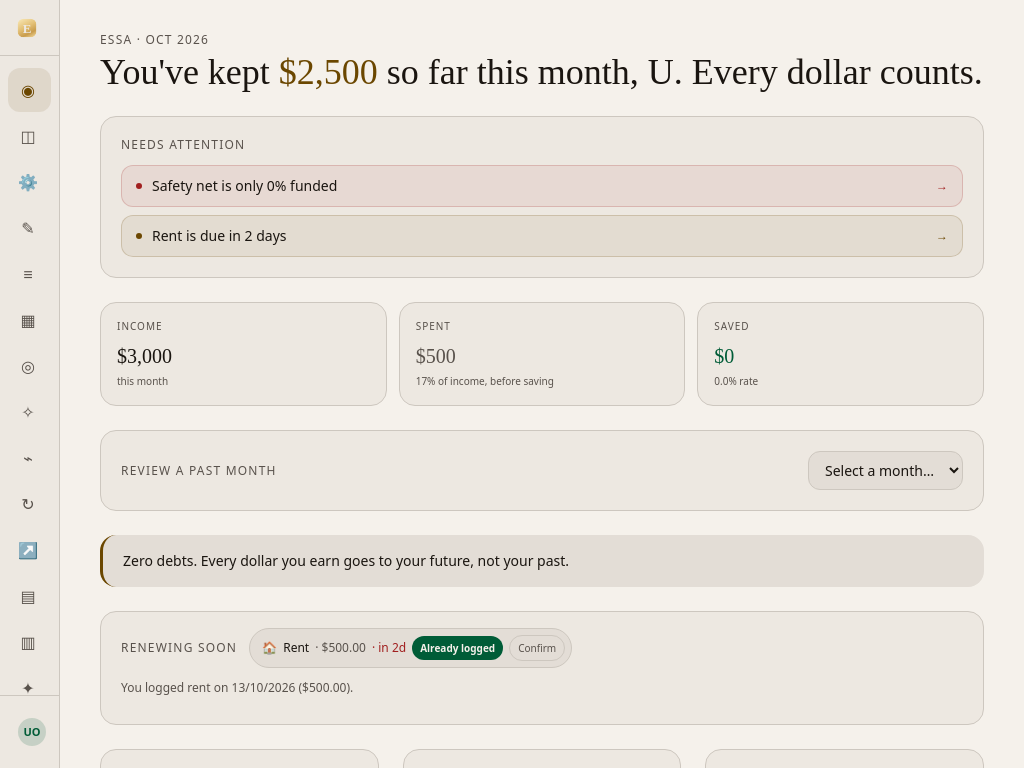
Recurring: the due line's Already logged links the row logged by hand
expect the text "Renewing soon" is shown: met, box [121,640,237,656]
Click the button named "Recurring" at (30, 504), box [8,482,51,526]
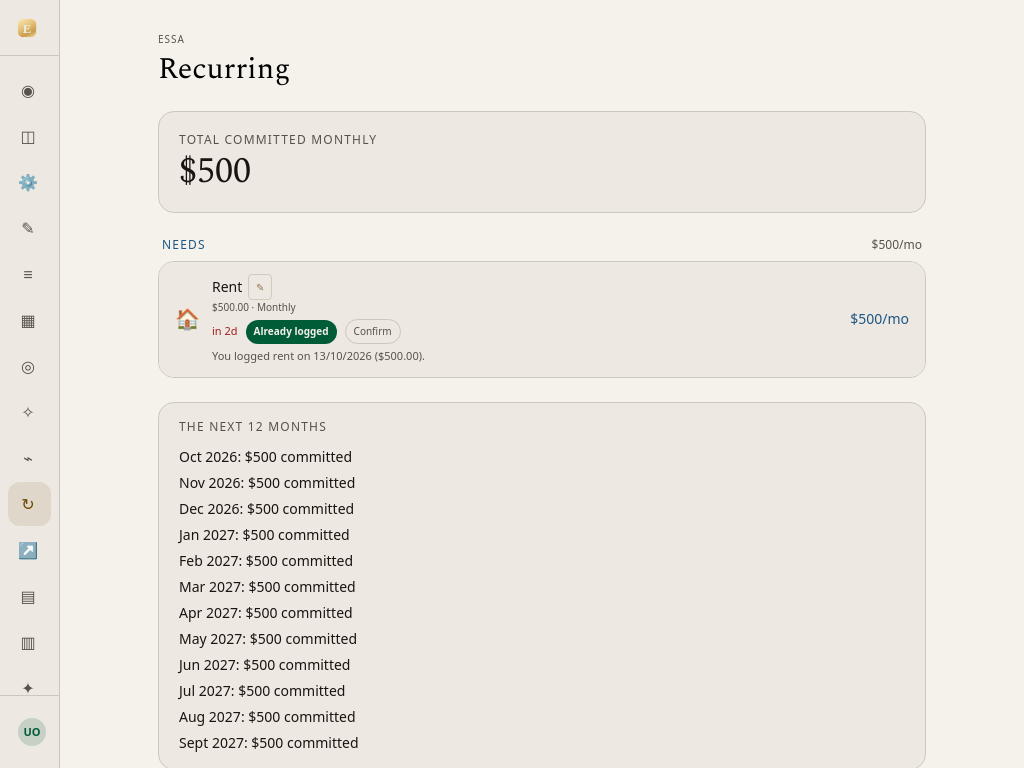
Click the button "Already logged" at (291, 332), box [246,320,337,344]
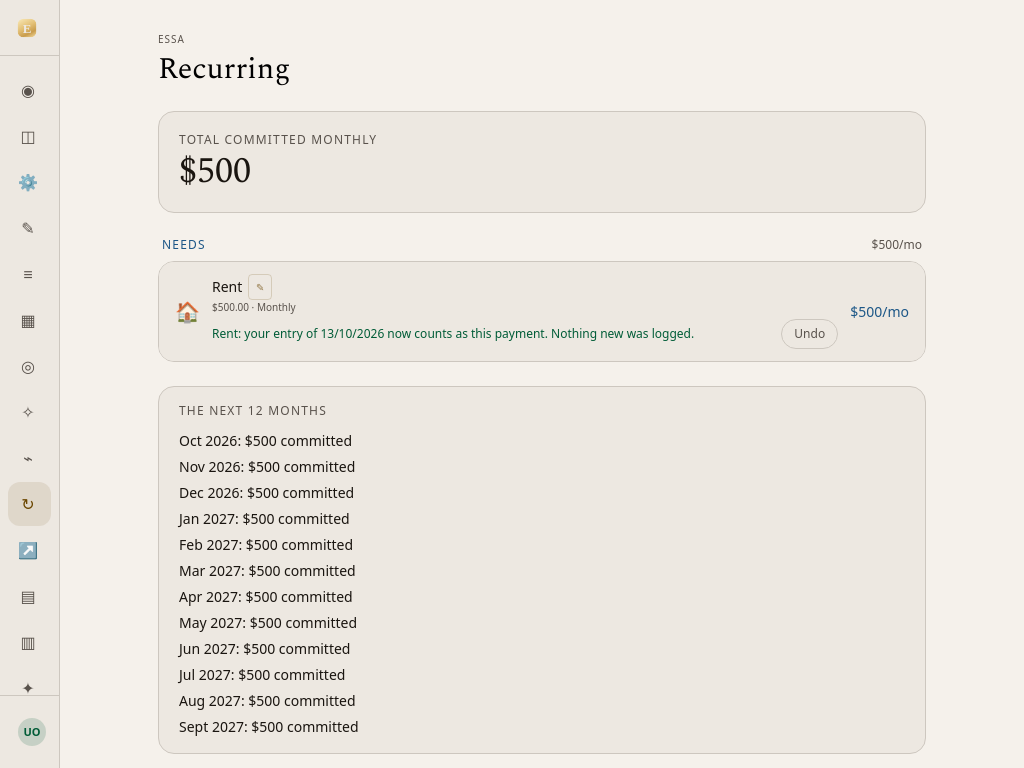
expect the text "Rent: your entry of 13/10/2026 now counts as this payment. Nothing new was logged." is shown: met, box [212,325,694,342]
